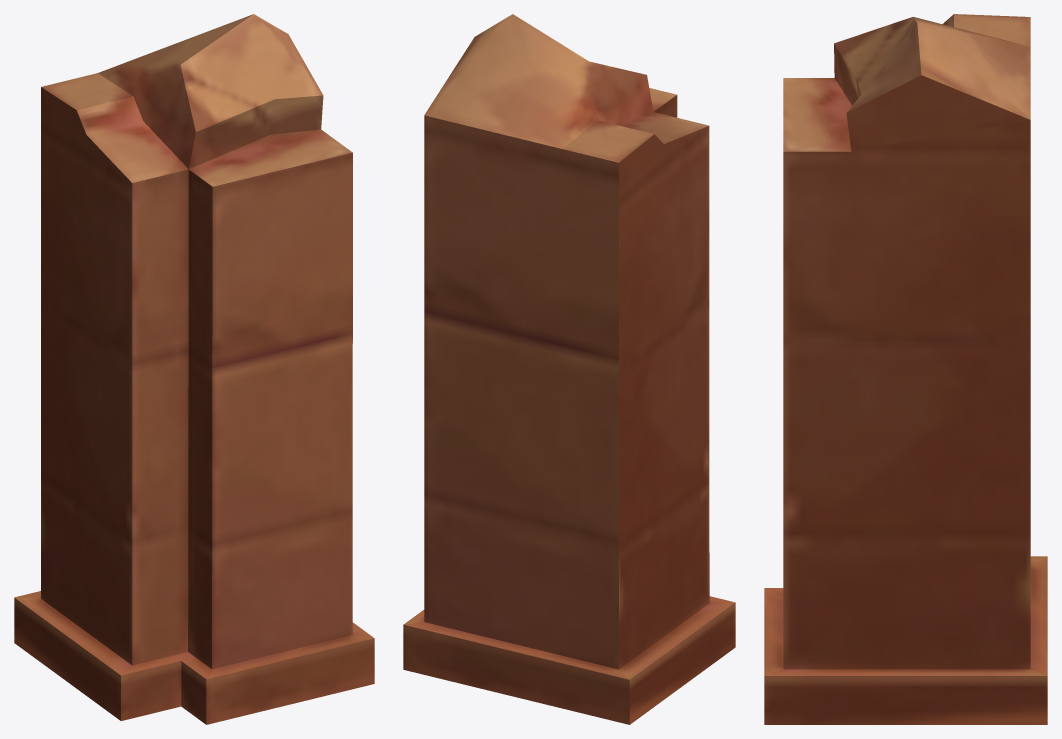
File: Boss_11.FBX
The picture shows the model from 3 angles, left to right: view 1: azimuth 30°, elevation 25°; view 2: azimuth 150°, elevation 25°; view 3: azimuth 270°, elevation 25°; orthographic projection. The views are drawn at different scales.
Parts seen in each view (by area): view 1: Boss_11; view 2: Boss_11; view 3: Boss_11.
Boxes of the visible parts, bbox=[...] form: Boss_11: bbox=[14, 14, 374, 724]; Boss_11: bbox=[403, 14, 735, 724]; Boss_11: bbox=[764, 14, 1047, 724].
Bounding box in the file's own units: 2.37 × 6.23 × 2.37.
